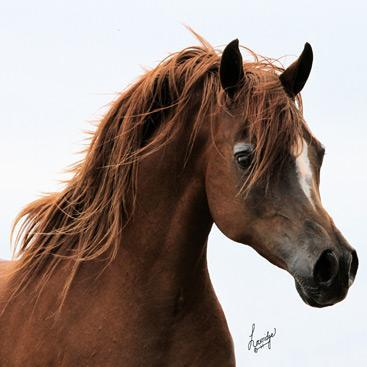horse: (0, 22, 359, 366)
